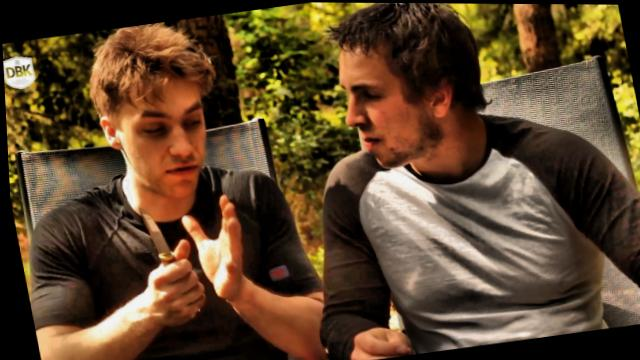knife: (113, 187, 206, 308)
